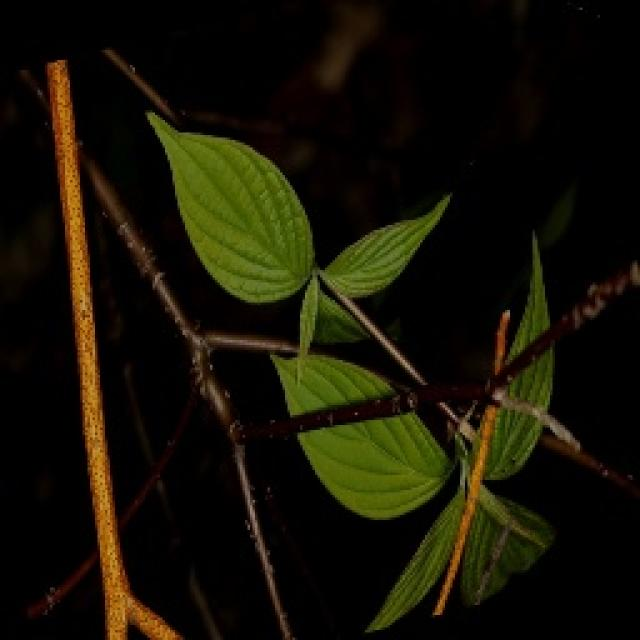Golden_canker: (16, 49, 251, 640)
